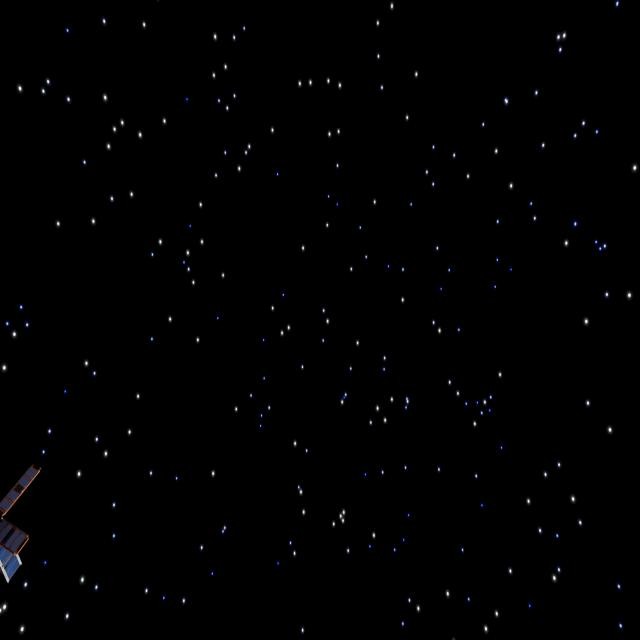satellite: (0, 460, 38, 587)
